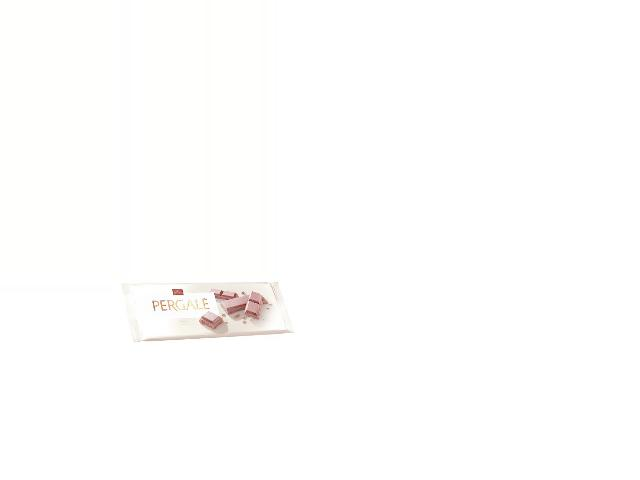chocolate: (119, 282, 297, 340)
